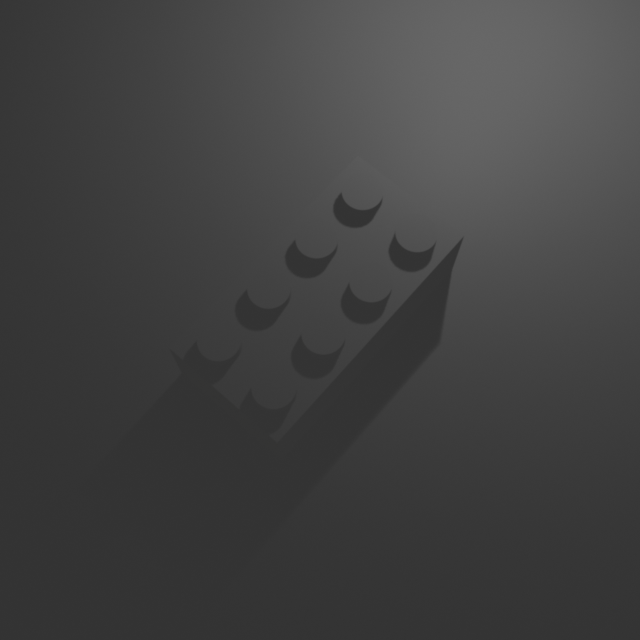lego_2x4: (167, 149, 466, 461)
